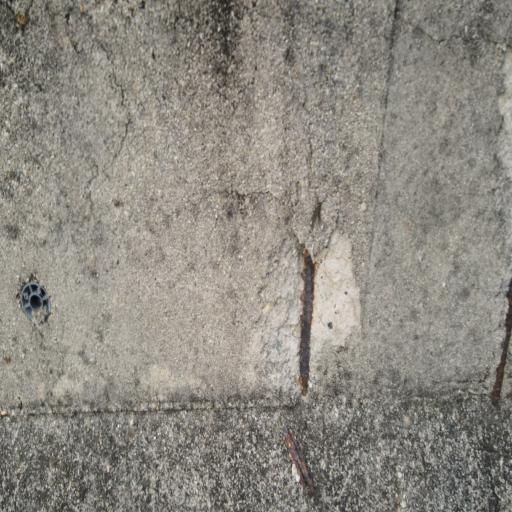exposed_rebar: (299, 249, 315, 395), (298, 450, 317, 498), (290, 428, 296, 444)
